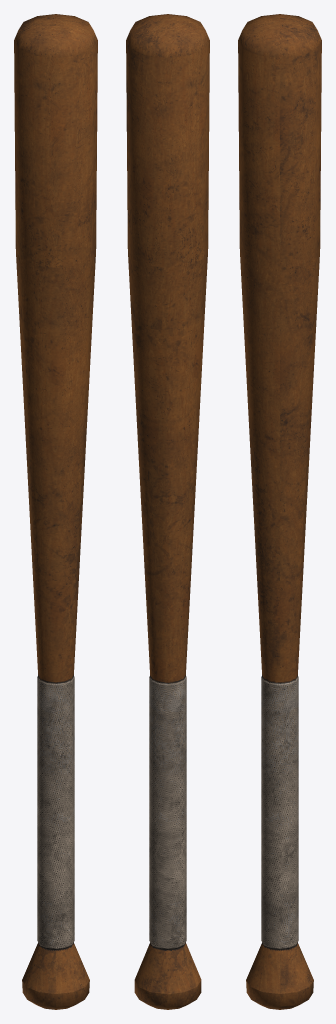
File: Baseball_bat.fbx
3 views of the same model, side by side, from view 1: azimuth 90°, elevation 25°; view 2: azimuth 150°, elevation 25°; view 3: azimuth 270°, elevation 25° (orthographic).
Parts seen in each view (by area): view 1: Baseball_bat; view 2: Baseball_bat; view 3: Baseball_bat.
Part boxes in pixels (left/top/right/bottom): Baseball_bat: left=14, top=14, right=97, bottom=1009; Baseball_bat: left=126, top=14, right=209, bottom=1009; Baseball_bat: left=238, top=14, right=321, bottom=1009.
Bounding box in the file's own units: 6.7 × 86.33 × 6.7.
